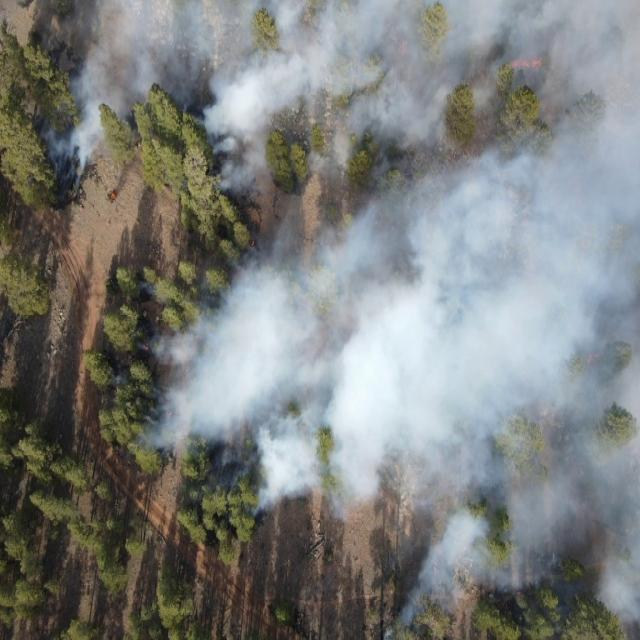fire: (502, 57, 546, 71), (584, 350, 604, 368), (399, 36, 410, 62), (109, 190, 118, 204), (142, 341, 152, 353), (248, 237, 257, 248), (514, 588, 522, 596), (168, 408, 174, 417)
smoke: (244, 186, 640, 524), (34, 0, 640, 186), (123, 257, 244, 491), (387, 526, 640, 600), (375, 602, 464, 640), (605, 602, 640, 640)
